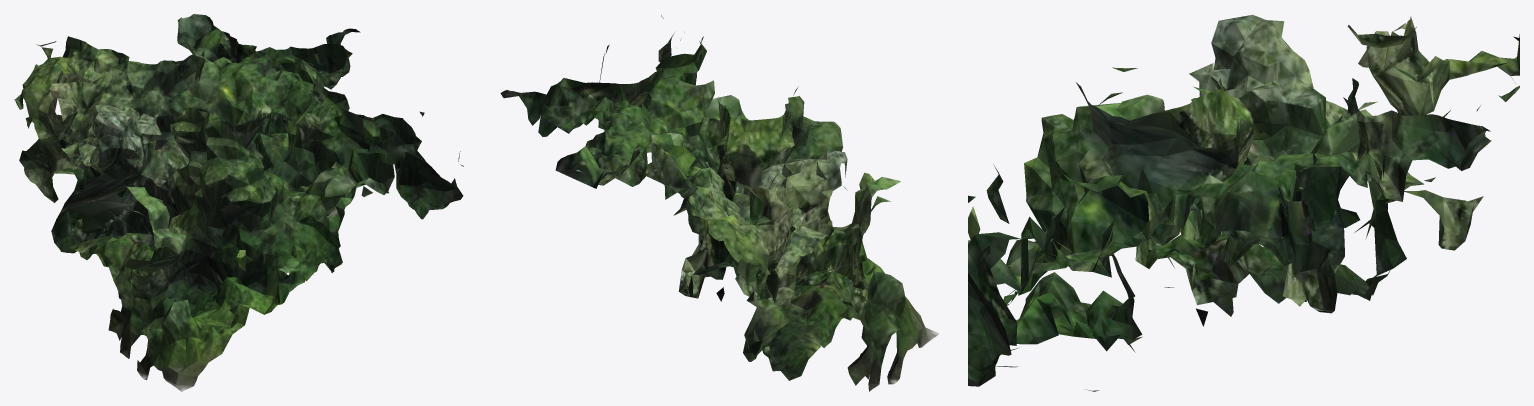
3 renders of one model, left to right at view 1: azimuth 30°, elevation 25°; view 2: azimuth 150°, elevation 25°; view 3: azimuth 270°, elevation 25°, orthographic. The views are drawn at different scales.
Size of the model in its own units: 26.11 by 20.2 by 26.11.
Materials: 5 (5 with a texture image).
